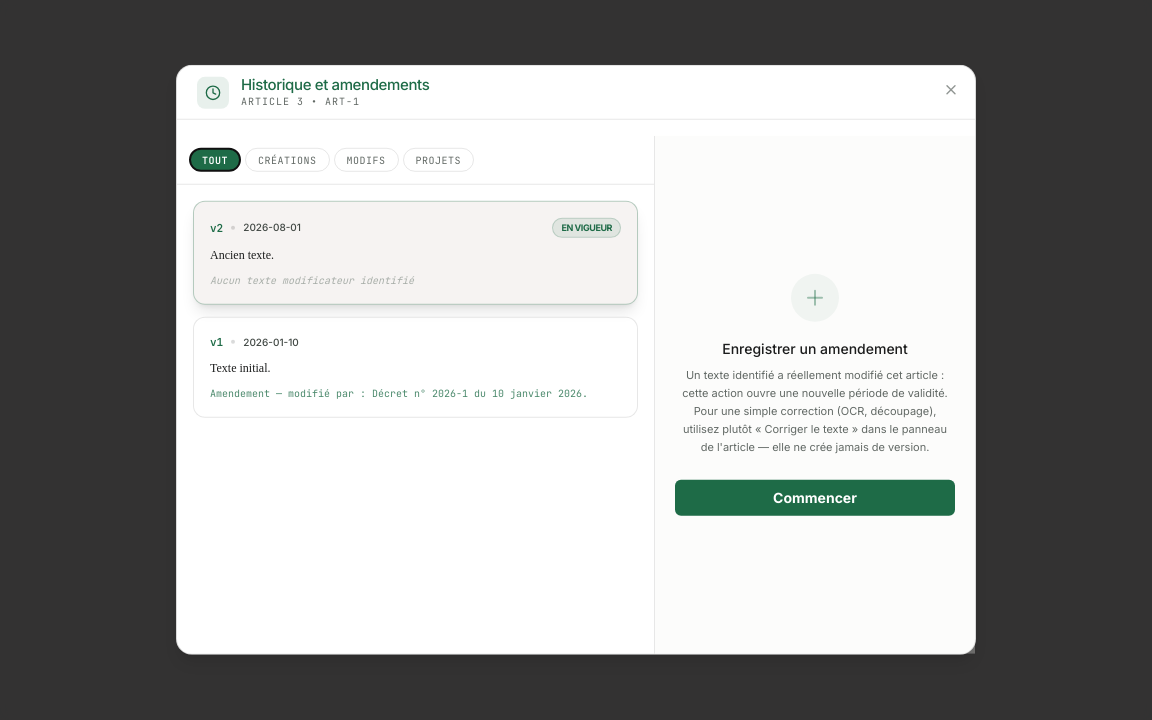
Test case: ne propose que des documents (pas des articles) comme texte modificateur, puis débloque la soumission
Click the button "Commencer" at (815, 498), box [675, 480, 955, 516]
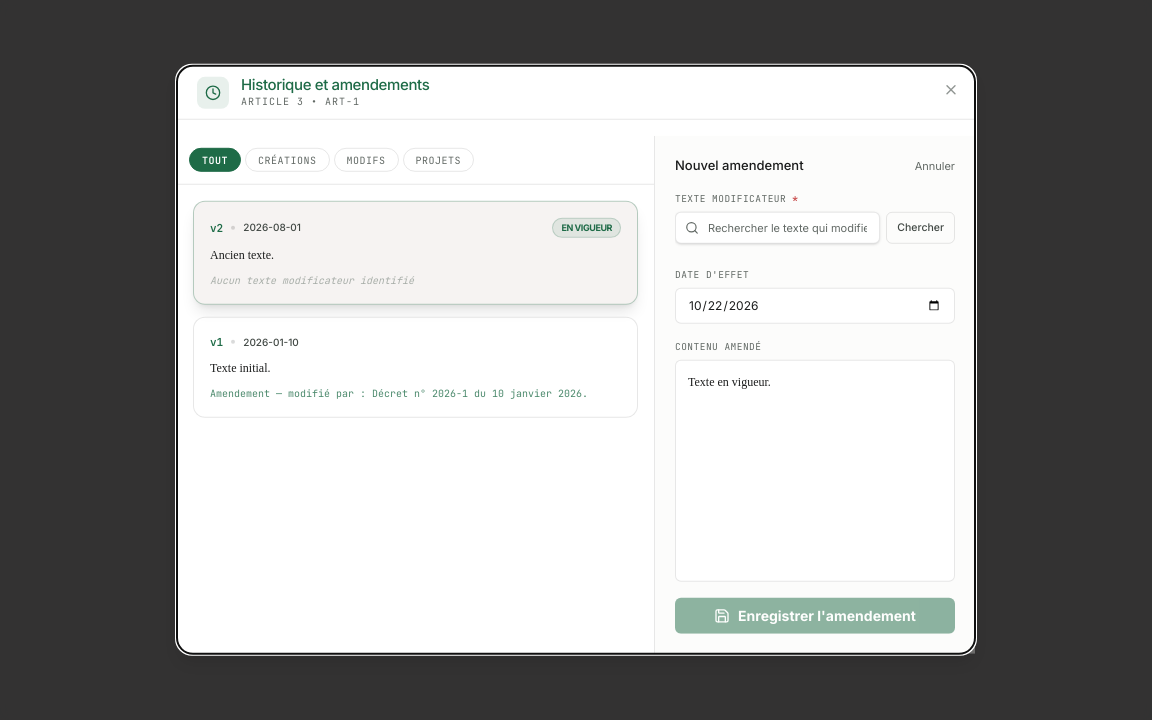
Type "Décret 2026-1" into the field with placeholder "Rechercher le texte qui modifie…" at (778, 228), box [675, 212, 880, 244]
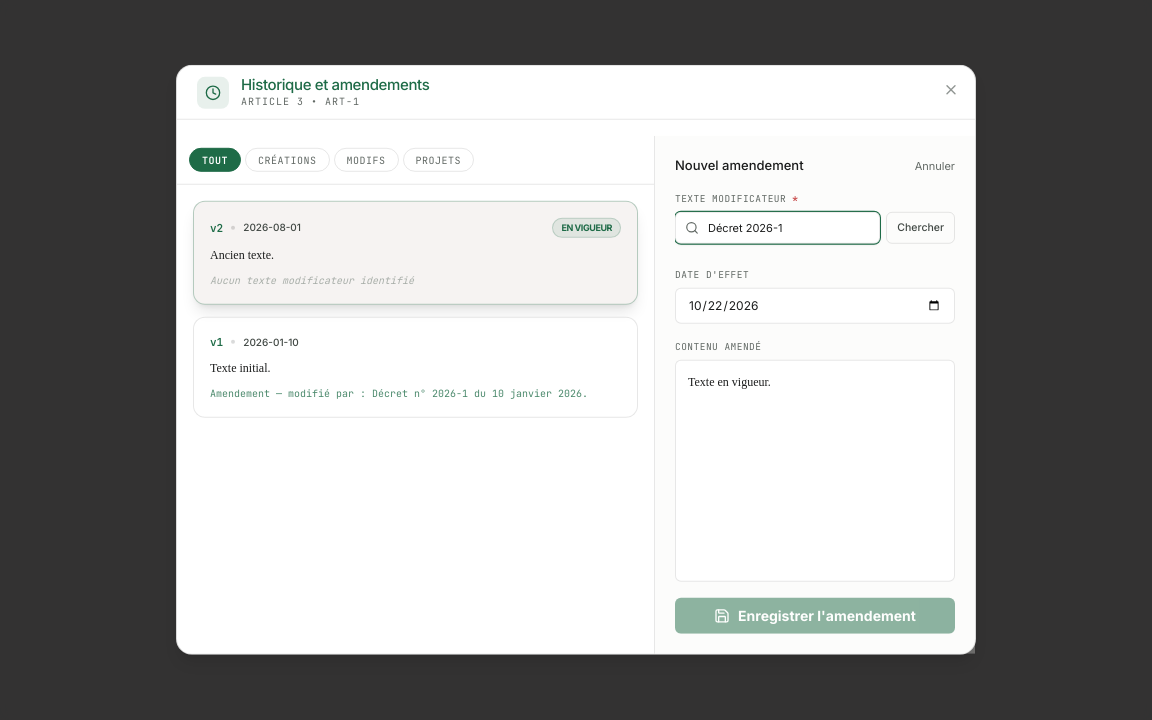
Click the button "Chercher" at (921, 228), box [886, 212, 955, 244]
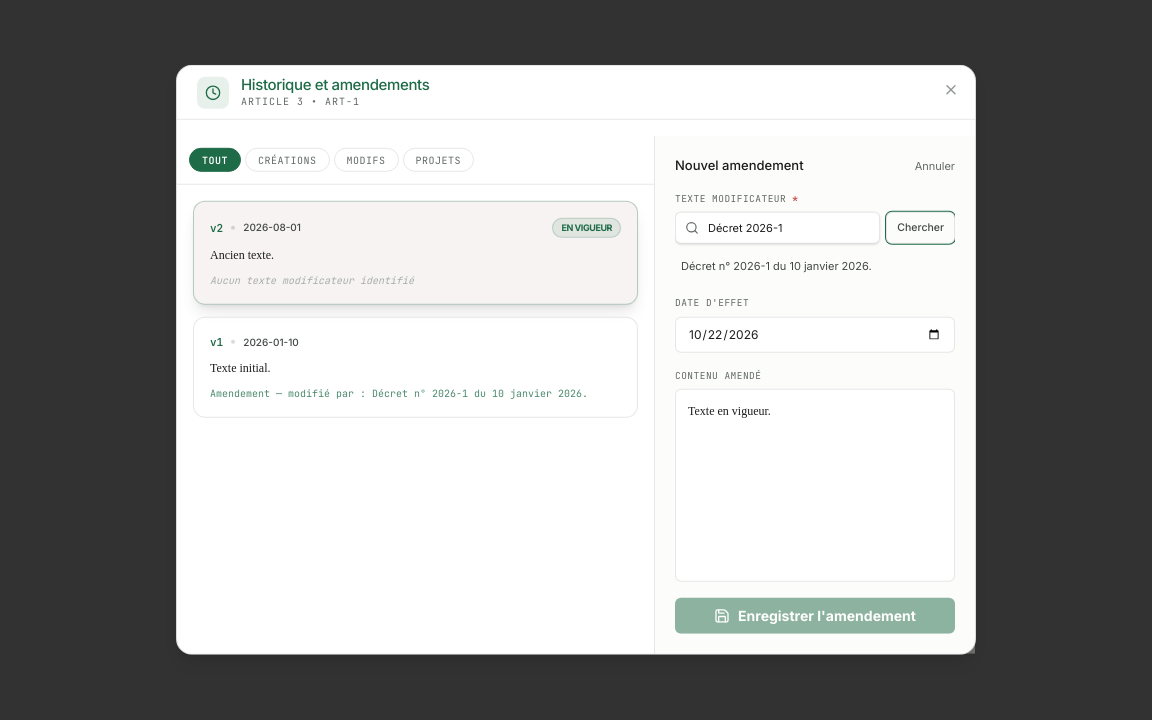
Expected: the button "Décret n° 2026-1 du 10 janvier 2026." is shown
Click the button "Décret n° 2026-1 du 10 janvier 2026." at (815, 266), box [675, 252, 955, 280]
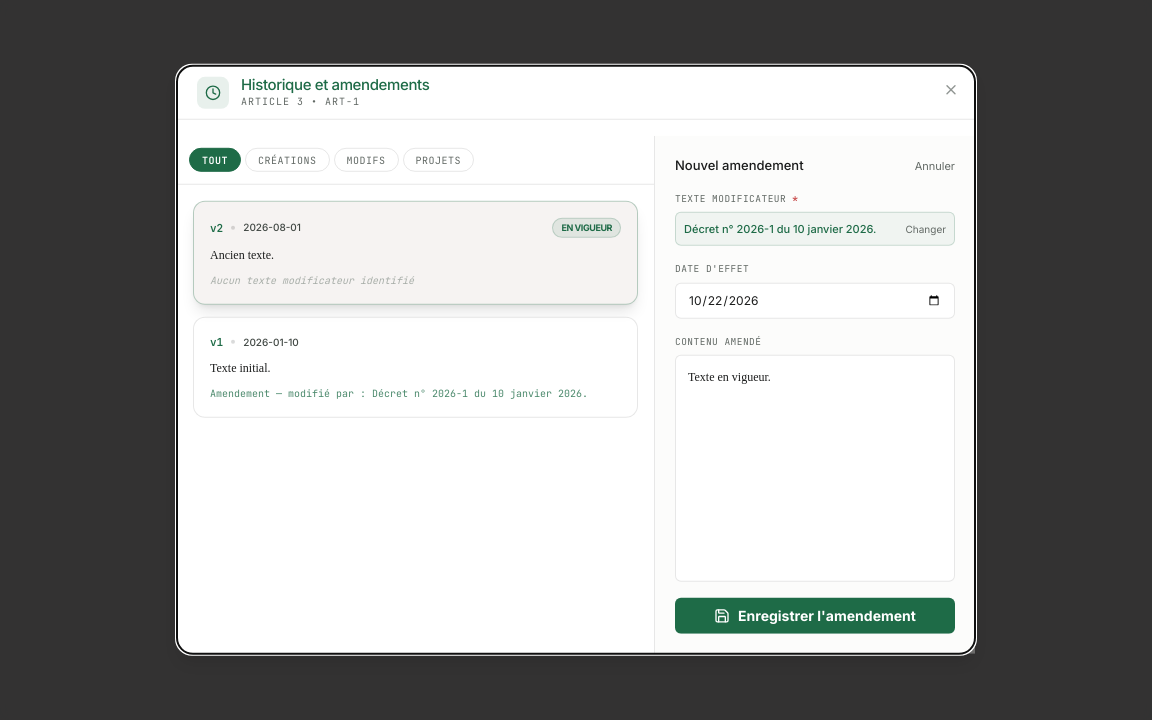
Expected: the button "Enregistrer l'amendement" is enabled, [675, 598, 955, 634]
